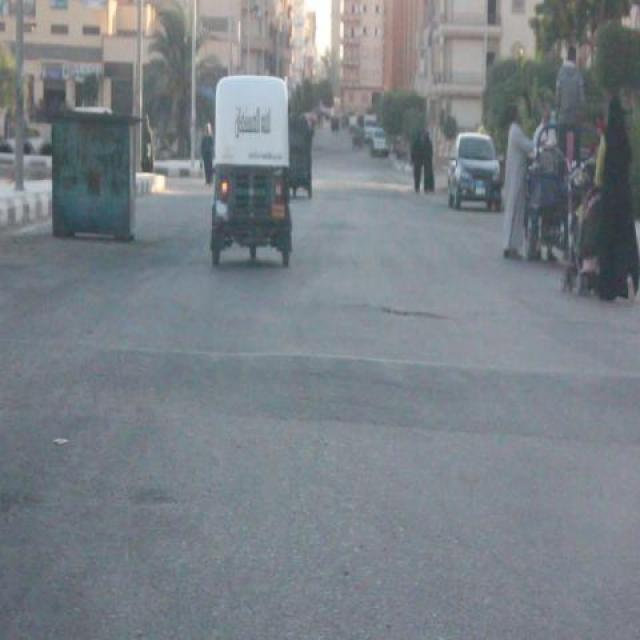Pothole: (362, 298, 458, 324), (120, 488, 186, 507)
Unmarked Bump: (0, 340, 640, 448)
